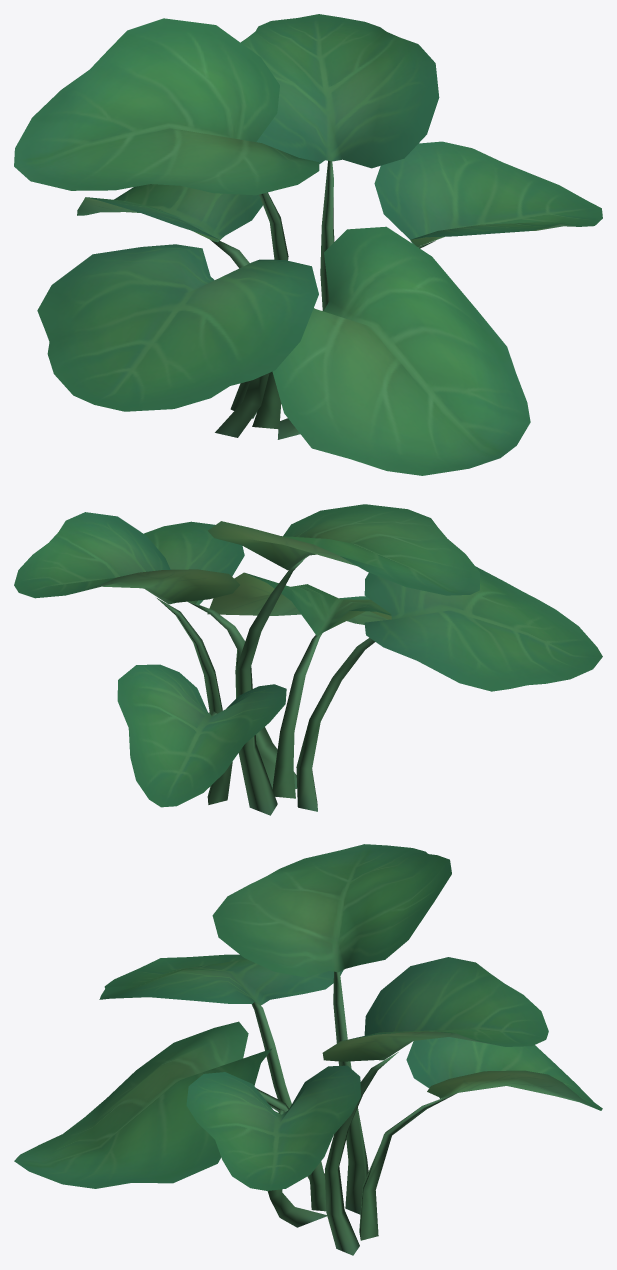
File: zw_aebt_025_sm.fbx
3 renders of one model, top to bottom at view 1: azimuth 30°, elevation 25°; view 2: azimuth 150°, elevation 25°; view 3: azimuth 270°, elevation 25°, orthographic. The views are drawn at different scales.
Visible parts, largest first — view 1: zw_aebt_025_sm; view 2: zw_aebt_025_sm; view 3: zw_aebt_025_sm.
Boxes of the visible parts, x1=… form: zw_aebt_025_sm: x1=14, y1=14, x2=602, y2=475; zw_aebt_025_sm: x1=14, y1=504, x2=602, y2=815; zw_aebt_025_sm: x1=14, y1=844, x2=602, y2=1255.
Bounding box in the file's own units: 2.44 × 1.49 × 2.45.
1 material, 1 textured.
